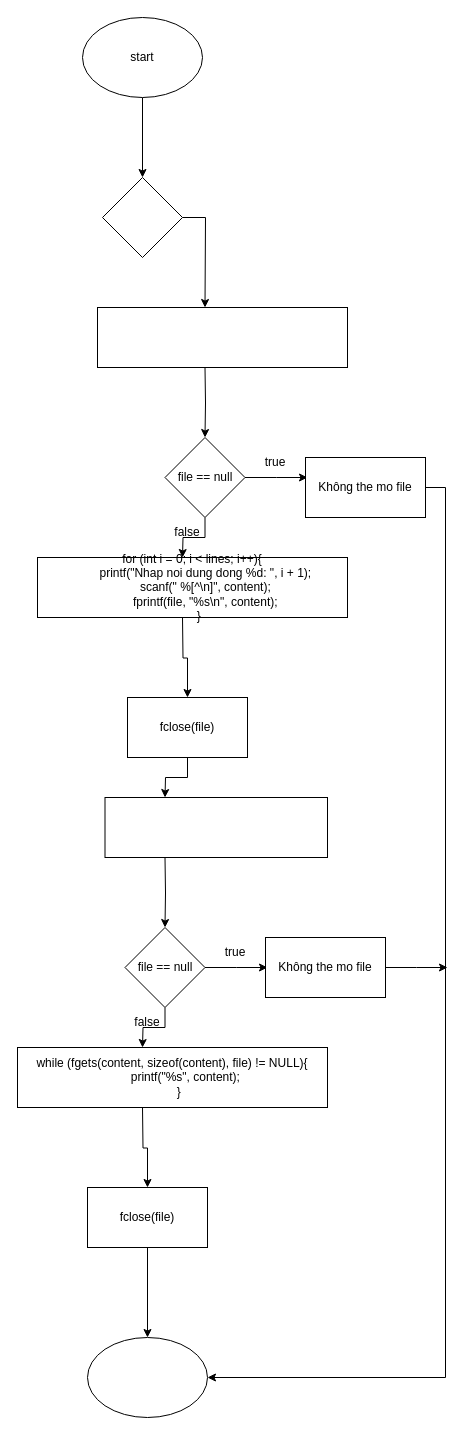
Some shapes in this 473 by 1435 pixel diagram are drawn without their labels. Here are the shapes that lost their labels. From the top down, the centre of each, then its label:
(142,217): *file; lines; content[100];
(222,337): file = fopen("C:\\Users\\ADMIN\\Desktop\\bt3.txt", "w");
(216,827): file = fopen("C:\\Users\\ADMIN\\Desktop\\bt3.txt", "r");
(147,1377): end
